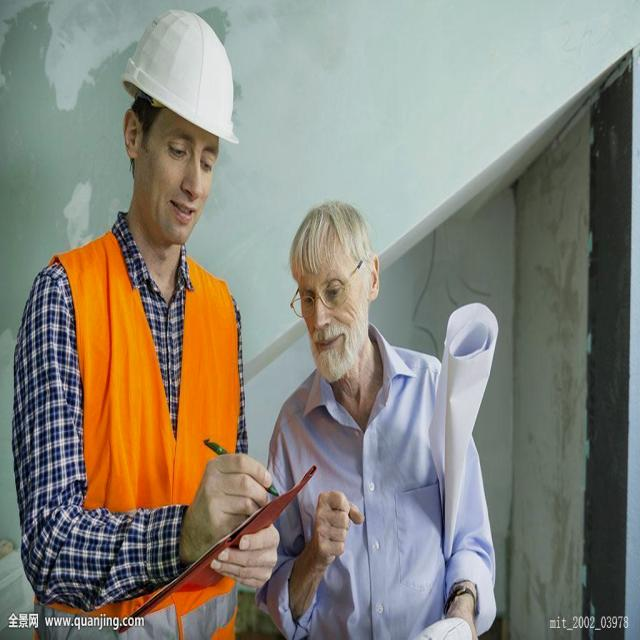face_nomask: (146, 112, 220, 252), (290, 272, 370, 383)
glasses: (288, 278, 353, 326)
hand_noglove: (180, 432, 278, 544), (220, 524, 286, 597), (311, 479, 357, 563)
head_helmet: (116, 10, 246, 144)
head_nohelmet: (292, 205, 374, 265)
person: (10, 2, 262, 640), (260, 199, 500, 640)
vest: (54, 235, 246, 639)
